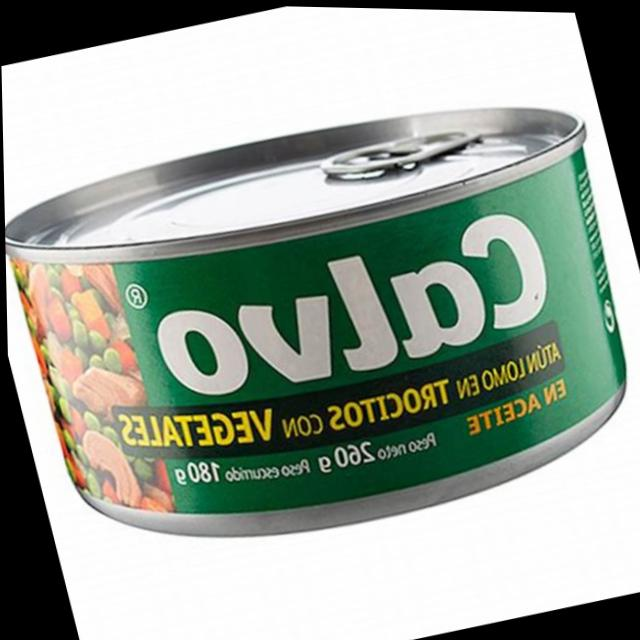Lata: (1, 64, 640, 602)
